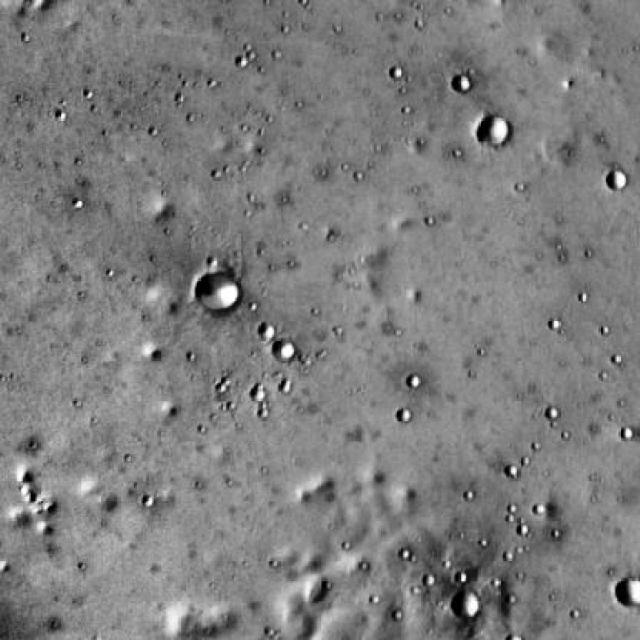crater: (196, 269, 241, 311), (476, 114, 507, 143), (451, 591, 480, 618), (617, 577, 640, 609), (272, 338, 296, 360), (605, 168, 627, 188), (451, 73, 471, 92), (258, 320, 276, 337)
